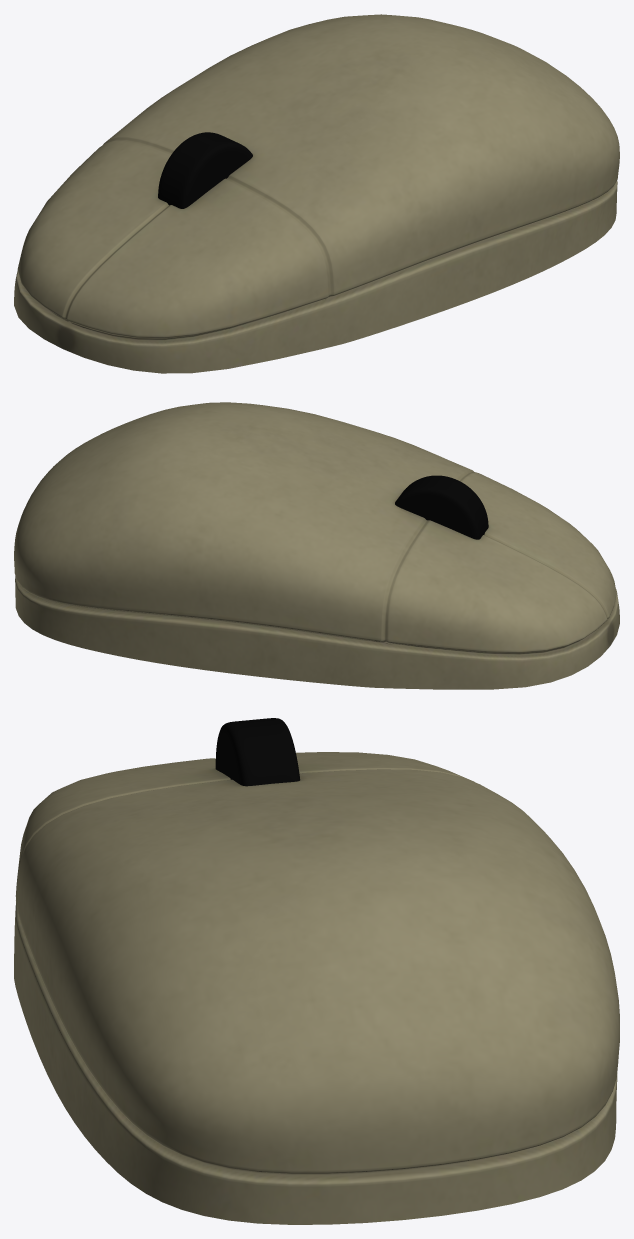
The model's file is mouse.glb.
3 renders of one model, top to bottom at view 1: azimuth 30°, elevation 25°; view 2: azimuth 150°, elevation 25°; view 3: azimuth 270°, elevation 25°, orthographic. The views are drawn at different scales.
Parts seen in each view (by area): view 1: mouse; view 2: mouse; view 3: mouse.
Boxes of the visible parts, x1=… form: mouse: x1=14, y1=14, x2=619, y2=373; mouse: x1=14, y1=402, x2=619, y2=689; mouse: x1=14, y1=718, x2=619, y2=1224.
Size of the model in its own units: 0.1172 by 0.0339 by 0.0751.
1 material, 1 textured.
